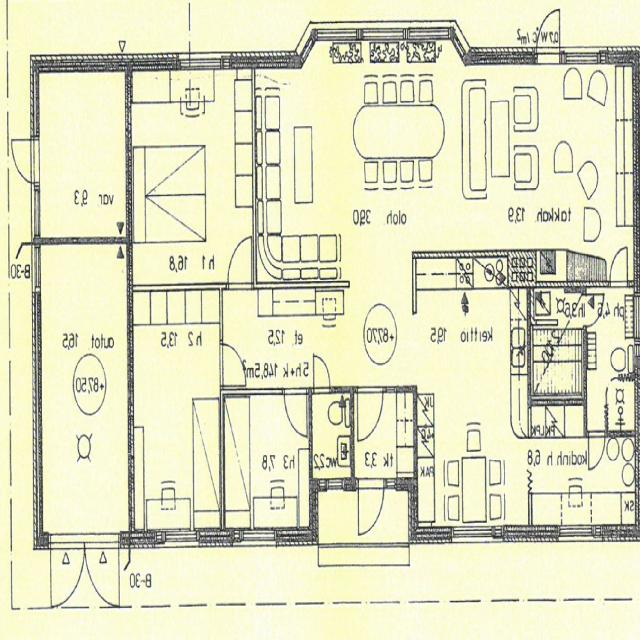door: (49, 526, 85, 606), (85, 526, 120, 606), (358, 476, 383, 537), (357, 385, 382, 439), (10, 140, 41, 182), (537, 12, 560, 68), (227, 238, 250, 290), (220, 342, 246, 383), (285, 385, 306, 430), (610, 246, 628, 287), (583, 294, 605, 327), (589, 429, 606, 467), (316, 356, 332, 392)
